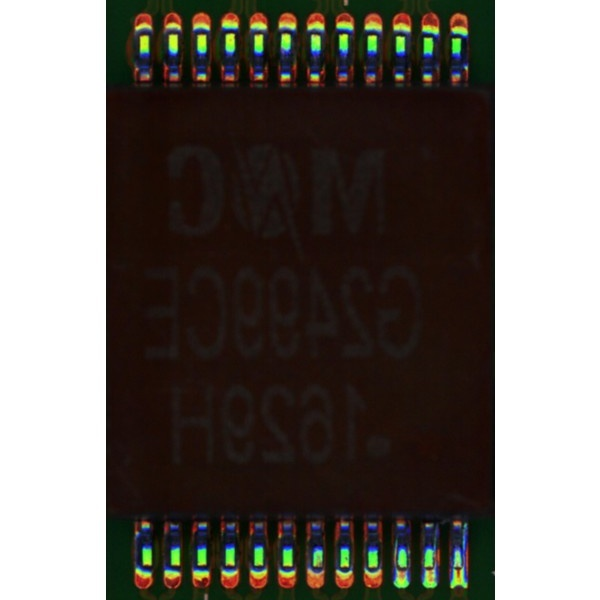Bad_podu: (426, 563, 437, 579), (398, 564, 408, 580), (454, 564, 464, 579)
Bad_qiaojiao: (462, 520, 467, 566), (433, 528, 439, 566), (393, 535, 398, 567)
